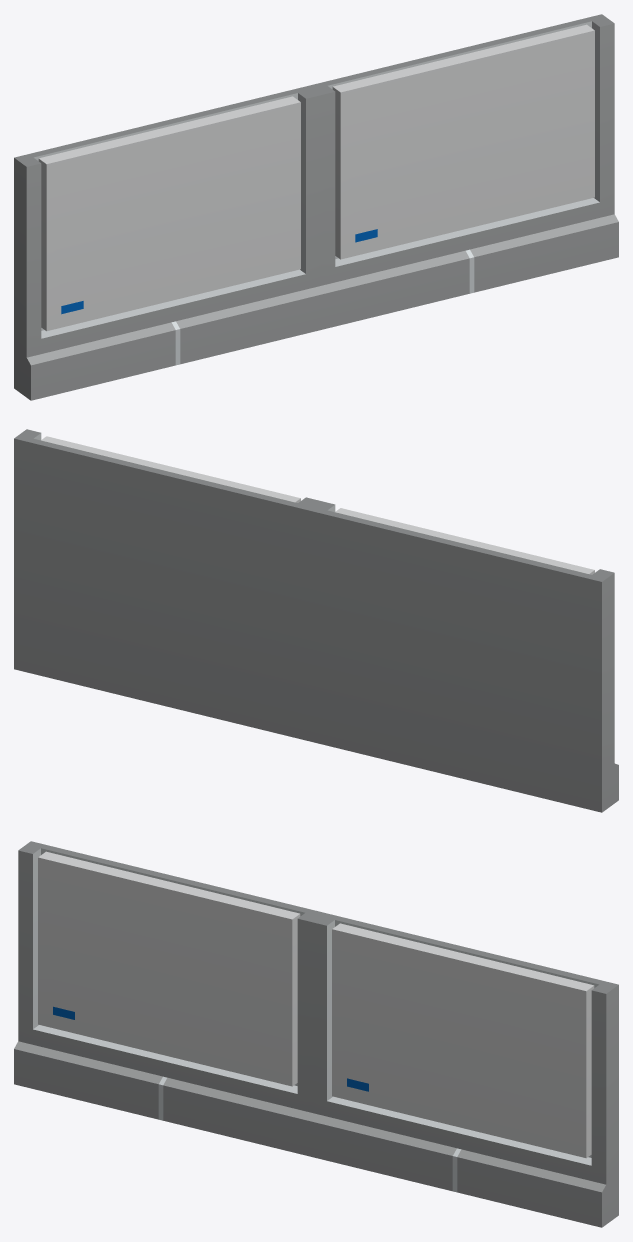
The model's file is Wall_type_A_032.fbx.
The picture shows the model from 3 angles, top to bottom: view 1: azimuth 30°, elevation 25°; view 2: azimuth 150°, elevation 25°; view 3: azimuth 330°, elevation 25°; orthographic projection.
Visible parts, largest first — view 1: Wall_type_A_032; view 2: Wall_type_A_032; view 3: Wall_type_A_032.
Part boxes in pixels (<box>): Wall_type_A_032: <box>14,14,618,400</box>; Wall_type_A_032: <box>14,429,618,812</box>; Wall_type_A_032: <box>14,841,618,1227</box>.
Size of the model in its own units: 400 by 20 by 150.
